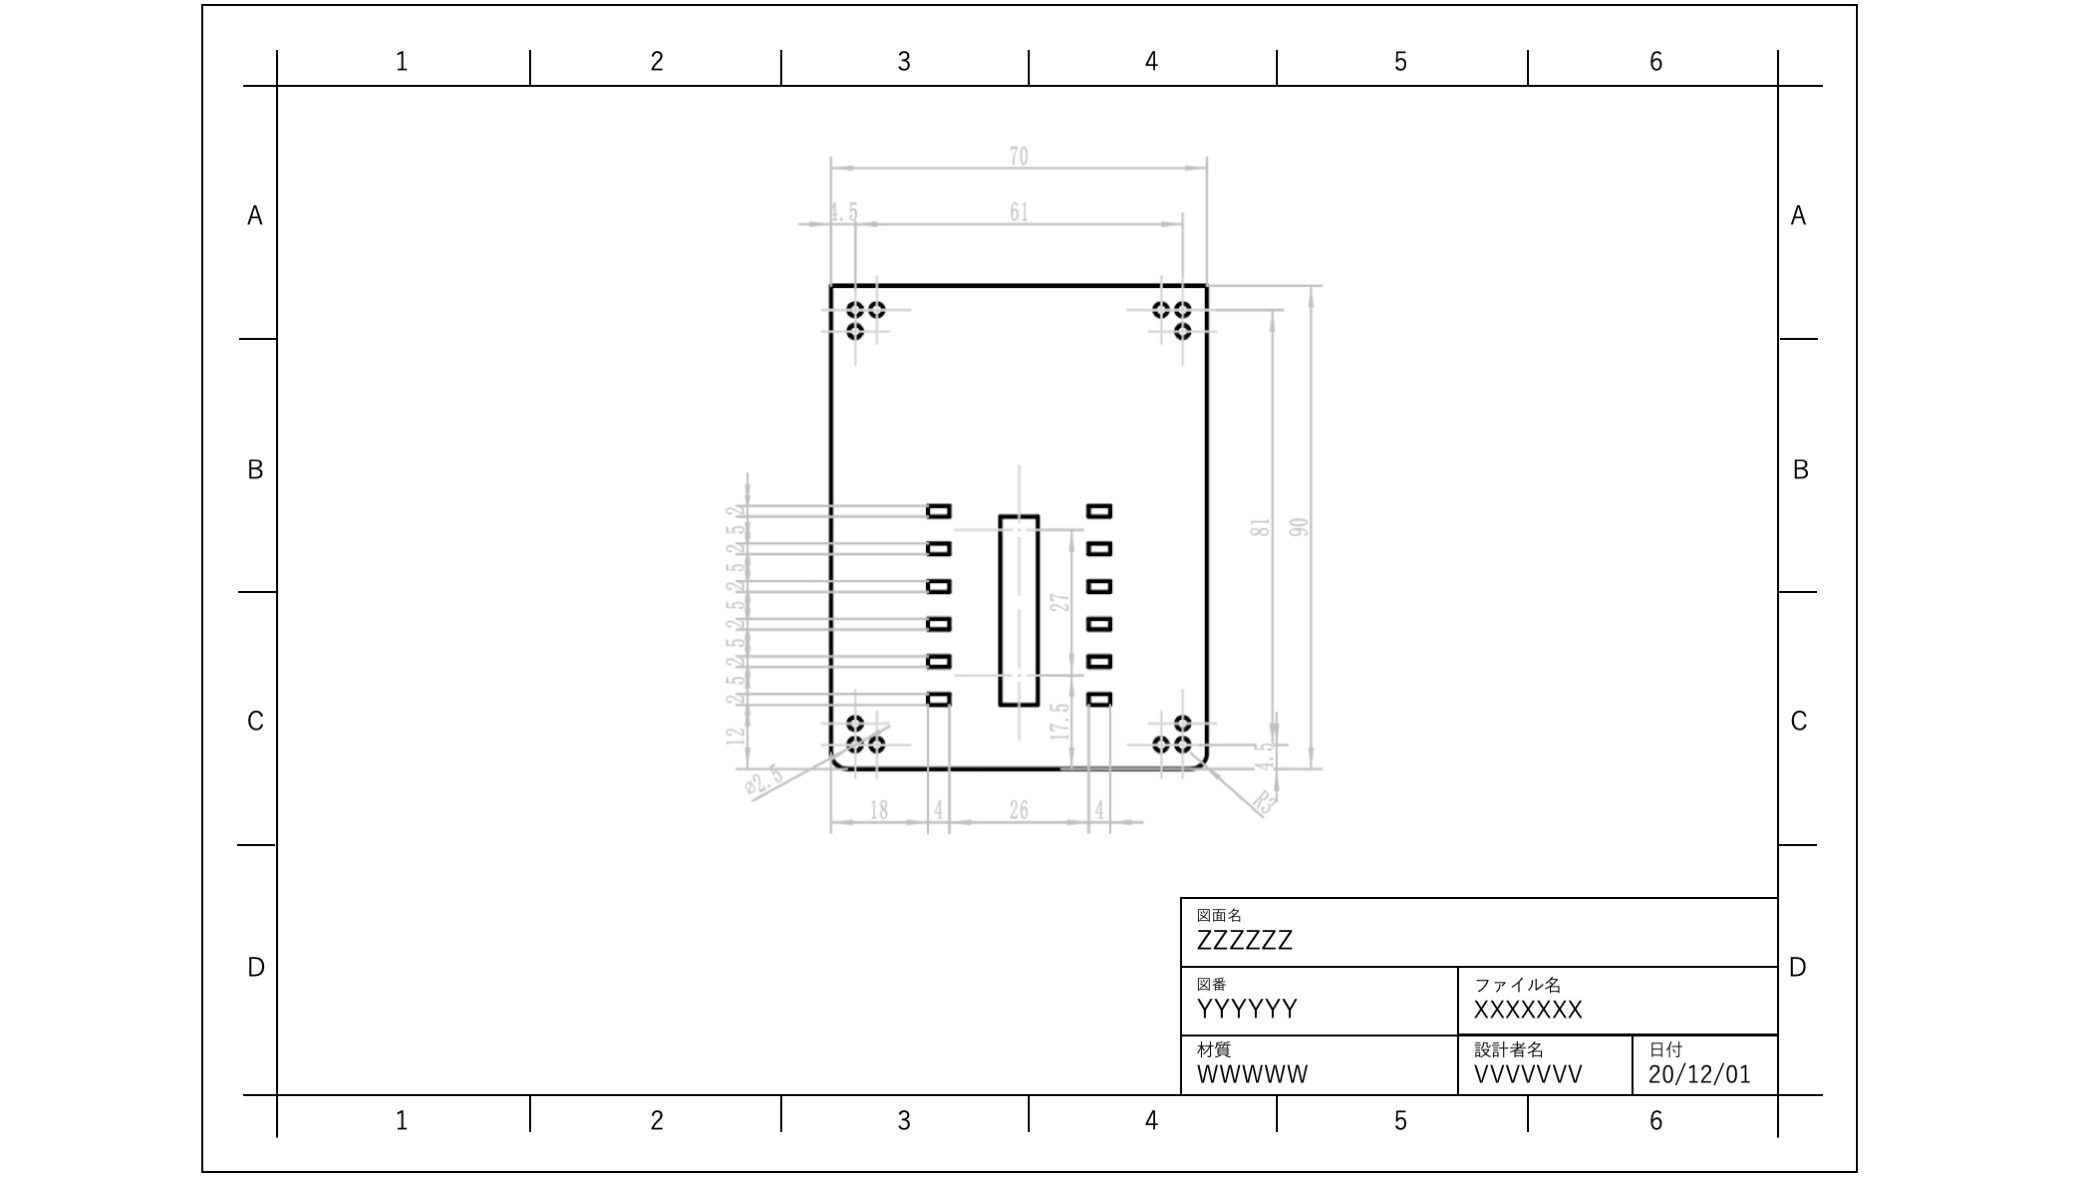circle: (865, 724, 888, 758), (1165, 705, 1196, 731), (842, 725, 867, 756), (838, 319, 870, 342), (1171, 735, 1196, 761), (864, 296, 888, 320), (1147, 294, 1170, 320), (1164, 320, 1193, 340), (1170, 294, 1193, 319), (845, 708, 868, 733), (844, 294, 864, 320), (1150, 733, 1167, 754)
rectangle: (989, 495, 1047, 718), (922, 643, 958, 676), (916, 534, 959, 561), (922, 681, 958, 712), (917, 609, 963, 633), (920, 568, 959, 597), (1080, 611, 1119, 637), (1080, 645, 1118, 671), (1083, 495, 1116, 519), (1080, 575, 1118, 597), (1083, 534, 1113, 559), (1085, 686, 1113, 709), (926, 495, 950, 519)
